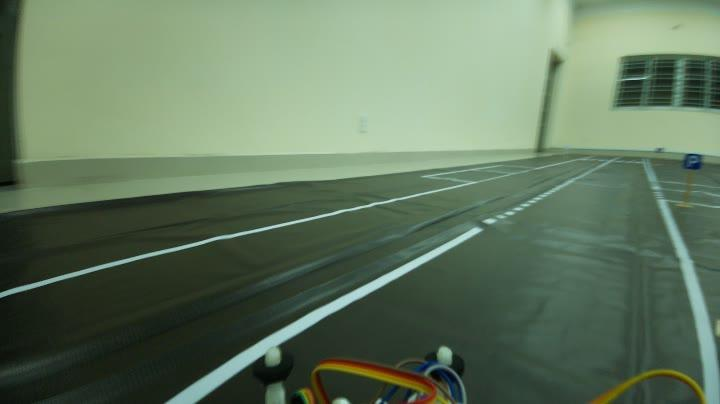parking: (678, 147, 710, 176)
